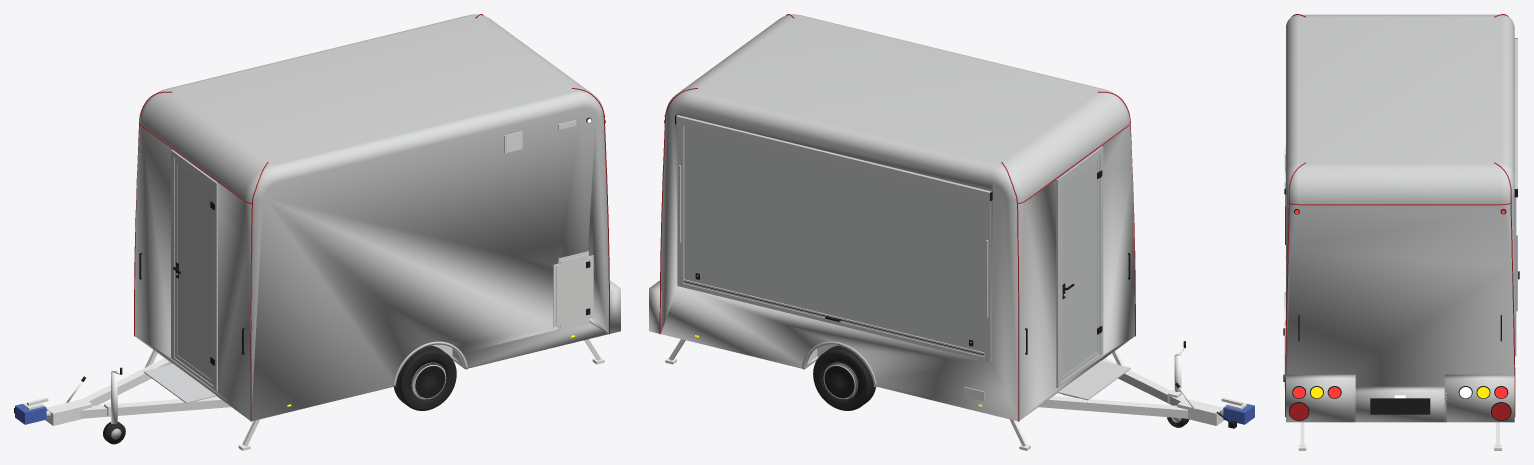
File: Anhaenger_v2.glb
3 views of the same model, side by side, from view 1: azimuth 30°, elevation 25°; view 2: azimuth 150°, elevation 25°; view 3: azimuth 270°, elevation 25° (orthographic).
Parts seen in each view (by area): view 1: v2_Aussenhuelle, v2_Tuer_Fuellung, v2_Serviceklappe_Tuer, v2_Tuer_Zarge, v2_Reifen_links, v2_Tuer_Fluegelrahmen, v2_Deichsel_Holm_1, v2_Trittblech_Riffel, v2_Deichsel_Holm_2, v2_Auflaufeinrichtung, v2_Radkappe_links, v2_Serviceklappe_Rahmen; view 2: v2_Aussenhuelle, v2_Klappe_Panel, v2_Tuer_Fuellung, v2_Klappe_Rahmen, v2_Klappe_Scharnierleiste, v2_Tuer_Zarge, v2_Reifen_rechts, v2_Deichsel_Holm_2, v2_Tuer_Fluegelrahmen, v2_Klappe_Profil_unten, v2_Trittblech_Riffel, v2_Deichsel_Holm_1 (+3 smaller); view 3: v2_Aussenhuelle, v2_Heckschuerze_rechts, v2_Heckschuerze_links, v2_Heckschuerze_Mitte, v2_Kennzeichen, v2_Klappe_Scharnierleiste, v2_Klappe_Rahmen, v2_Keder_hinten_rechts, v2_Keder_hinten_waagrecht, v2_Keder_hinten_links, v2_Rueckstrahler_links, v2_Rueckstrahler_rechts.
Part boxes in pixels (x1,y1,x2,y2): v2_Aussenhuelle: (135, 14, 608, 421); v2_Tuer_Fuellung: (177, 164, 211, 379); v2_Serviceklappe_Tuer: (556, 254, 591, 328); v2_Tuer_Zarge: (171, 150, 217, 391); v2_Reifen_links: (394, 345, 456, 410); v2_Tuer_Fluegelrahmen: (174, 158, 213, 385); v2_Deichsel_Holm_1: (81, 396, 231, 418); v2_Trittblech_Riffel: (143, 364, 216, 403); v2_Deichsel_Holm_2: (83, 358, 172, 405); v2_Auflaufeinrichtung: (45, 398, 92, 425); v2_Radkappe_links: (415, 366, 445, 398); v2_Serviceklappe_Rahmen: (553, 251, 593, 331); v2_Aussenhuelle: (660, 14, 1134, 421); v2_Klappe_Panel: (684, 126, 984, 352); v2_Tuer_Fuellung: (1062, 161, 1096, 376); v2_Klappe_Rahmen: (677, 124, 991, 362); v2_Klappe_Scharnierleiste: (676, 115, 991, 200); v2_Tuer_Zarge: (1056, 146, 1103, 387); v2_Reifen_rechts: (813, 345, 875, 410); v2_Deichsel_Holm_2: (1038, 396, 1187, 418); v2_Tuer_Fluegelrahmen: (1060, 155, 1099, 382); v2_Klappe_Profil_unten: (684, 279, 984, 356); v2_Trittblech_Riffel: (1058, 360, 1130, 400); v2_Deichsel_Holm_1: (1102, 358, 1185, 405); v2_Aussenhuelle: (1286, 14, 1514, 386); v2_Heckschuerze_rechts: (1444, 374, 1514, 422); v2_Heckschuerze_links: (1286, 374, 1355, 422); v2_Heckschuerze_Mitte: (1353, 386, 1446, 422); v2_Kennzeichen: (1370, 398, 1430, 414); v2_Klappe_Scharnierleiste: (1514, 38, 1517, 188); v2_Klappe_Rahmen: (1514, 197, 1516, 356); v2_Keder_hinten_rechts: (1494, 162, 1515, 416); v2_Keder_hinten_waagrecht: (1289, 203, 1511, 205); v2_Keder_hinten_links: (1285, 162, 1305, 416); v2_Rueckstrahler_links: (1289, 403, 1308, 420); v2_Rueckstrahler_rechts: (1492, 403, 1510, 420).
Size of the model in its own units: 55.6 by 27.29 by 21.27.
